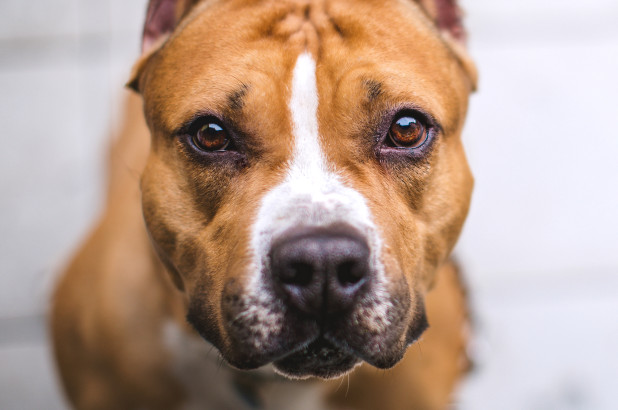dog: (45, 3, 502, 409)
